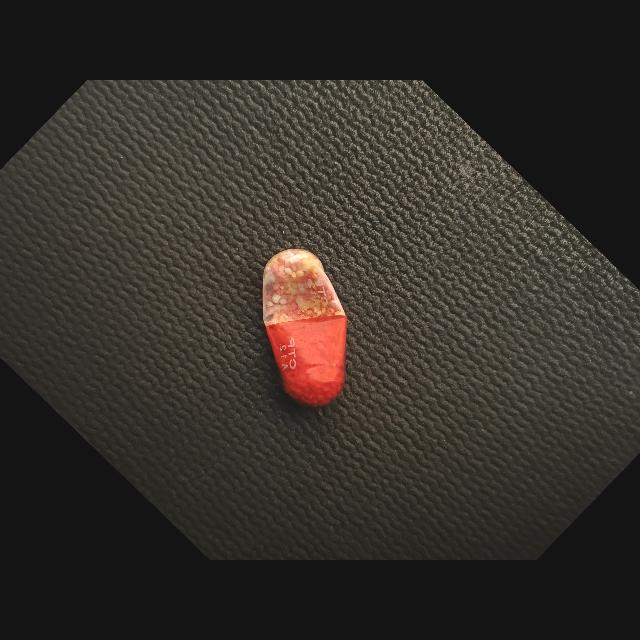Defective Capsule: (262, 248, 347, 407)
